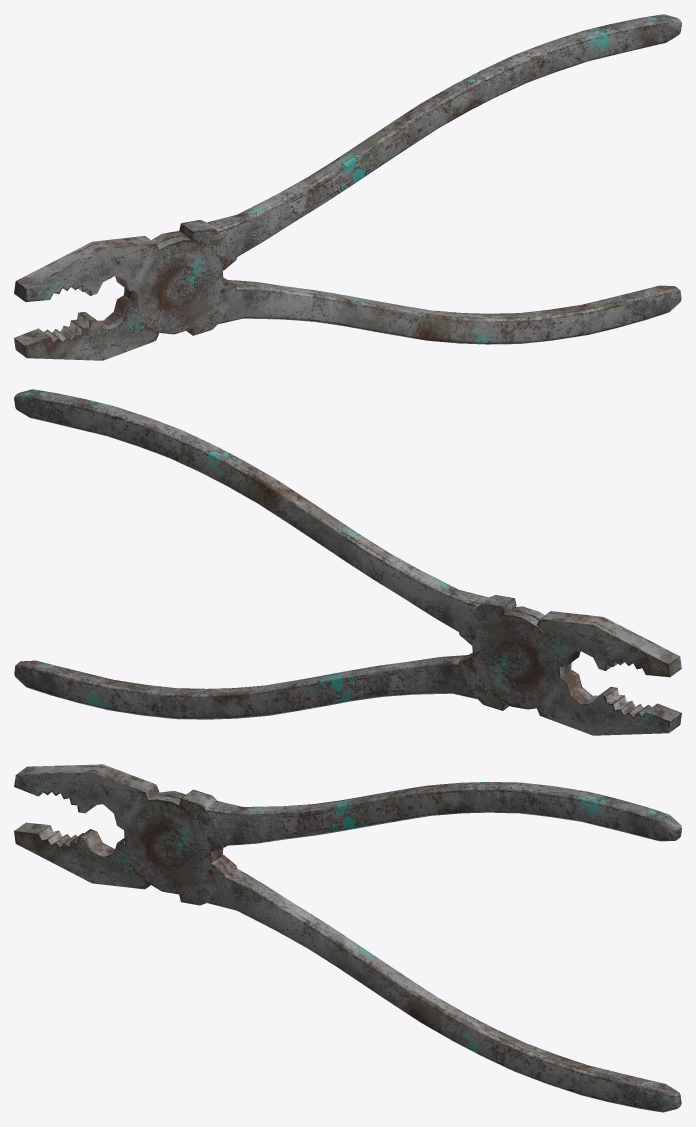
File: metal_pliers.glb
3 views of the same model, one above another, from view 1: azimuth 30°, elevation 25°; view 2: azimuth 150°, elevation 25°; view 3: azimuth 330°, elevation 25° (orthographic).
Parts seen in each view (by area): view 1: metal_pliers; view 2: metal_pliers; view 3: metal_pliers.
Boxes of the visible parts, left/top/right/bottom form: metal_pliers: left=14, top=14, right=681, bottom=360; metal_pliers: left=14, top=389, right=681, bottom=735; metal_pliers: left=14, top=764, right=681, bottom=1112.
Size of the model in its own units: 0.4834 by 0.209 by 0.0156.
1 material, 1 textured.
